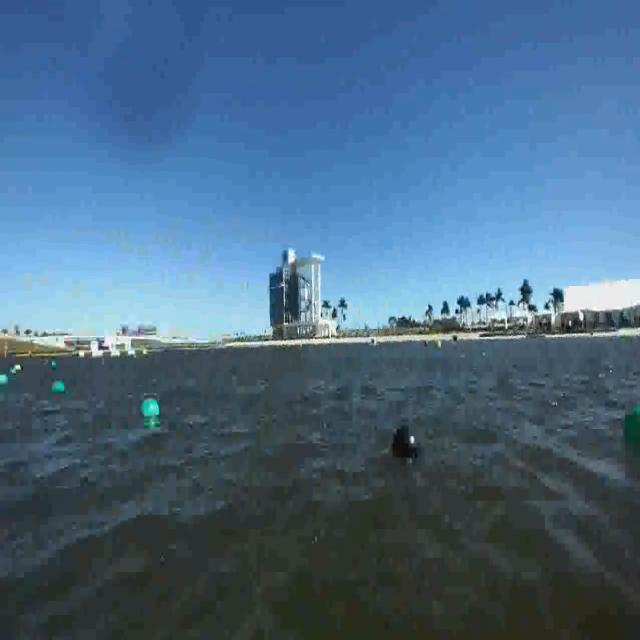black-buoy: (392, 427, 422, 462)
green-buoy: (622, 401, 640, 453), (141, 400, 160, 420), (54, 378, 68, 395), (0, 374, 10, 389)
